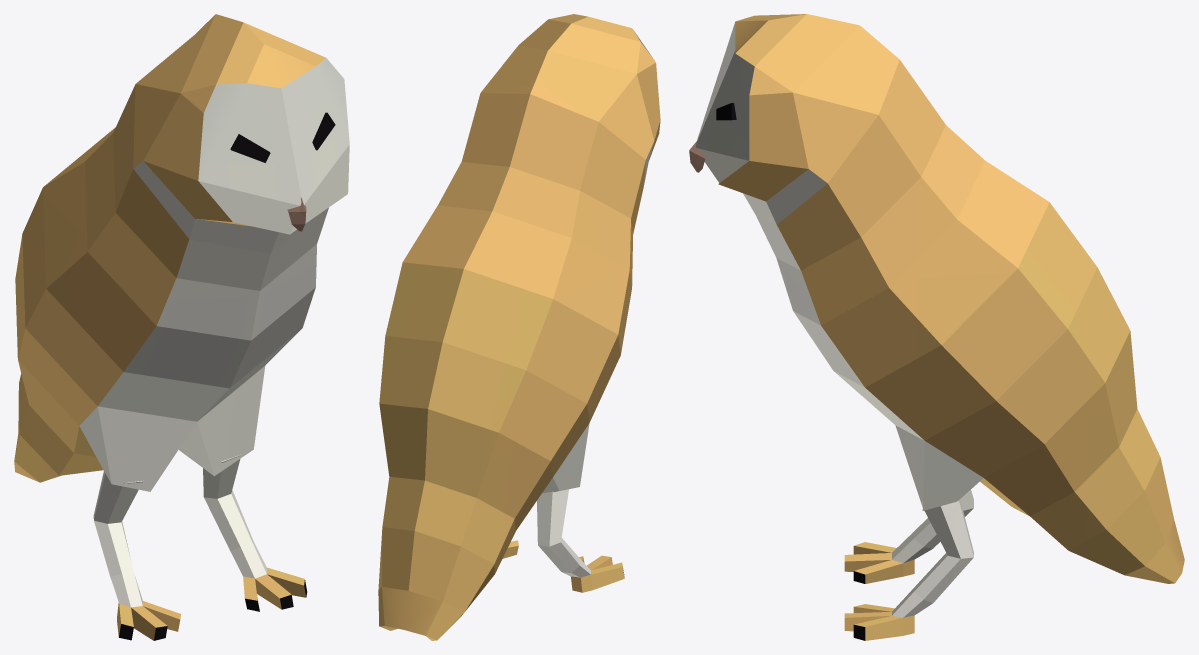
The model's file is eSEv3rCMKbg.glb.
3 renders of one model, left to right at view 1: azimuth 30°, elevation 25°; view 2: azimuth 150°, elevation 25°; view 3: azimuth 270°, elevation 25°, orthographic. The views are drawn at different scales.
Visible parts, largest first — view 1: Geo_Owl; view 2: Geo_Owl; view 3: Geo_Owl.
Boxes of the visible parts, left/top/right/bottom form: Geo_Owl: left=14, top=14, right=349, bottom=640; Geo_Owl: left=378, top=14, right=660, bottom=640; Geo_Owl: left=689, top=14, right=1184, bottom=640.
Size of the model in its own units: 0.4286 by 1 by 0.7656.
1 material, 1 textured.
